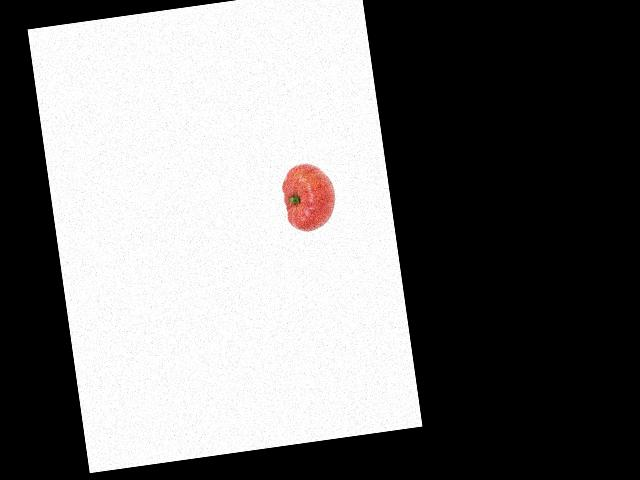tomato: (280, 159, 339, 233)
